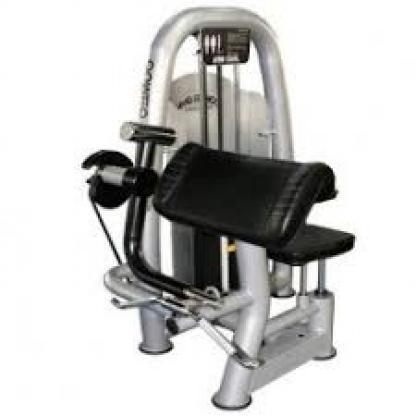arm curl machine: (81, 6, 355, 413)
